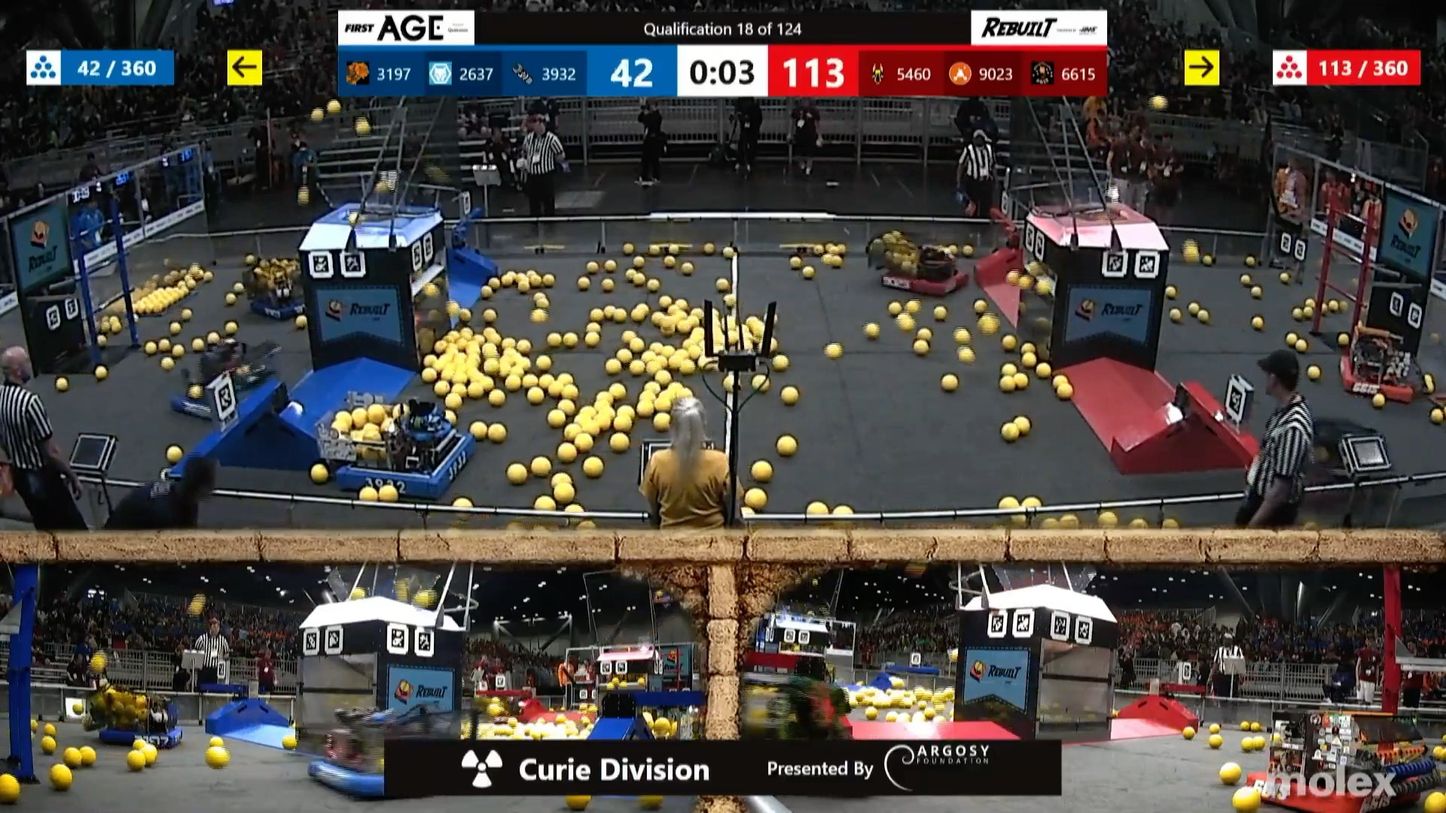bumpers: (1243, 759, 1446, 813), (163, 373, 289, 427), (337, 450, 474, 497), (1324, 353, 1426, 409), (298, 749, 399, 802), (870, 260, 978, 300), (96, 714, 197, 754), (246, 293, 328, 321)
